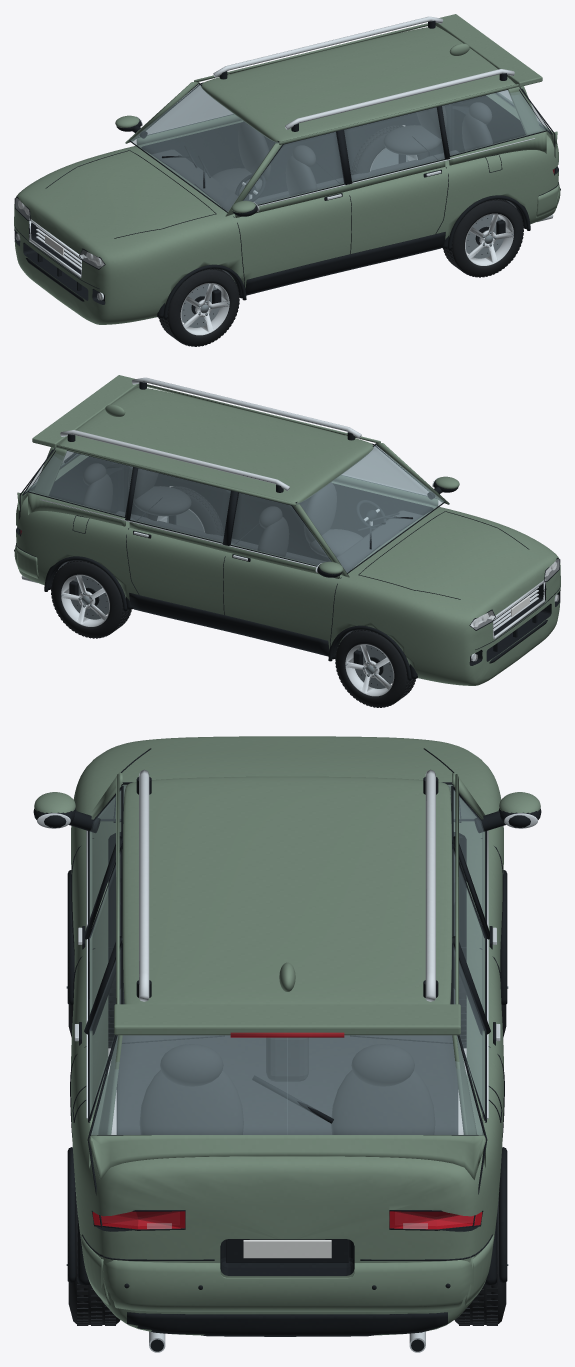
File: crossover_suv.glb
The picture shows the model from 3 angles, top to bottom: view 1: azimuth 30°, elevation 25°; view 2: azimuth 150°, elevation 25°; view 3: azimuth 270°, elevation 25°; orthographic projection. The views are drawn at different scales.
Parts seen in each view (by area): view 1: Watertight 14-station body shell, Crowned roof pressing, Raked laminated windshield, Rear side door glass, Rear quarter glass, Front side door glass, Formed lower door protective cladding, 107 reused Sculpted_tyre.002, 107 reused Sculpted_tyre, Roof spoiler lip, Front side door glass.001, Painted door glazing lower sill (+28 smaller); view 2: Watertight 14-station body shell, Crowned roof pressing, Raked laminated windshield, Rear side door glass.001, Rear quarter glass.001, Front side door glass.001, Formed lower door protective cladding.001, 107 reused Sculpted_tyre.003, 107 reused Sculpted_tyre.001, Roof spoiler lip, Front side door glass, Painted door glazing lower sill.001 (+28 smaller); view 3: Watertight 14-station body shell, Crowned roof pressing, Tailgate rear glazing, Cabin carpet, Formed painted rear bumper cover, Roof spoiler lip, Painted rear glazing lower surround, Sculpted rear lower bumper insert, Contoured seat back.002, Contoured seat back.003, Raised satin roof rail, Raised satin roof rail.001 (+30 smaller).
Boxes of the visible parts, bbox=[...] form: Watertight 14-station body shell: bbox=[14, 93, 558, 324]; Crowned roof pressing: bbox=[201, 26, 515, 142]; Raked laminated windshield: bbox=[130, 84, 277, 211]; Rear side door glass: bbox=[344, 107, 444, 181]; Rear quarter glass: bbox=[442, 90, 545, 155]; Front side door glass: bbox=[243, 132, 343, 204]; Formed lower door protective cladding: bbox=[245, 232, 445, 295]; 107 reused Sculpted_tyre.002: bbox=[444, 199, 523, 276]; 107 reused Sculpted_tyre: bbox=[159, 269, 239, 346]; Roof spoiler lip: bbox=[435, 14, 542, 86]; Front side door glass.001: bbox=[146, 85, 232, 134]; Painted door glazing lower sill: bbox=[235, 158, 445, 217]; Watertight 14-station body shell: bbox=[16, 454, 560, 685]; Crowned roof pressing: bbox=[59, 387, 373, 503]; Raked laminated windshield: bbox=[297, 445, 444, 572]; Rear side door glass.001: bbox=[130, 468, 230, 542]; Rear quarter glass.001: bbox=[29, 451, 132, 516]; Front side door glass.001: bbox=[231, 493, 331, 565]; Formed lower door protective cladding.001: bbox=[129, 593, 329, 656]; 107 reused Sculpted_tyre.003: bbox=[51, 560, 130, 637]; 107 reused Sculpted_tyre.001: bbox=[335, 629, 415, 707]; Roof spoiler lip: bbox=[32, 375, 139, 447]; Front side door glass: bbox=[342, 446, 428, 495]; Painted door glazing lower sill.001: bbox=[129, 519, 339, 578]; Watertight 14-station body shell: bbox=[71, 736, 503, 1335]; Crowned roof pressing: bbox=[122, 776, 452, 1004]; Tailgate rear glazing: bbox=[91, 1035, 483, 1134]; Cabin carpet: bbox=[116, 988, 458, 1134]; Formed painted rear bumper cover: bbox=[101, 1256, 473, 1311]; Roof spoiler lip: bbox=[114, 1004, 460, 1035]; Painted rear glazing lower surround: bbox=[89, 1135, 485, 1179]; Sculpted rear lower bumper insert: bbox=[127, 1312, 447, 1336]; Contoured seat back.002: bbox=[139, 1070, 243, 1134]; Contoured seat back.003: bbox=[331, 1070, 435, 1134]; Raised satin roof rail: bbox=[139, 769, 149, 1001]; Raised satin roof rail.001: bbox=[425, 769, 435, 1001].
Size of the model in its own units: 4.76 by 1.83 by 2.24.
10 materials, 10 textured.
